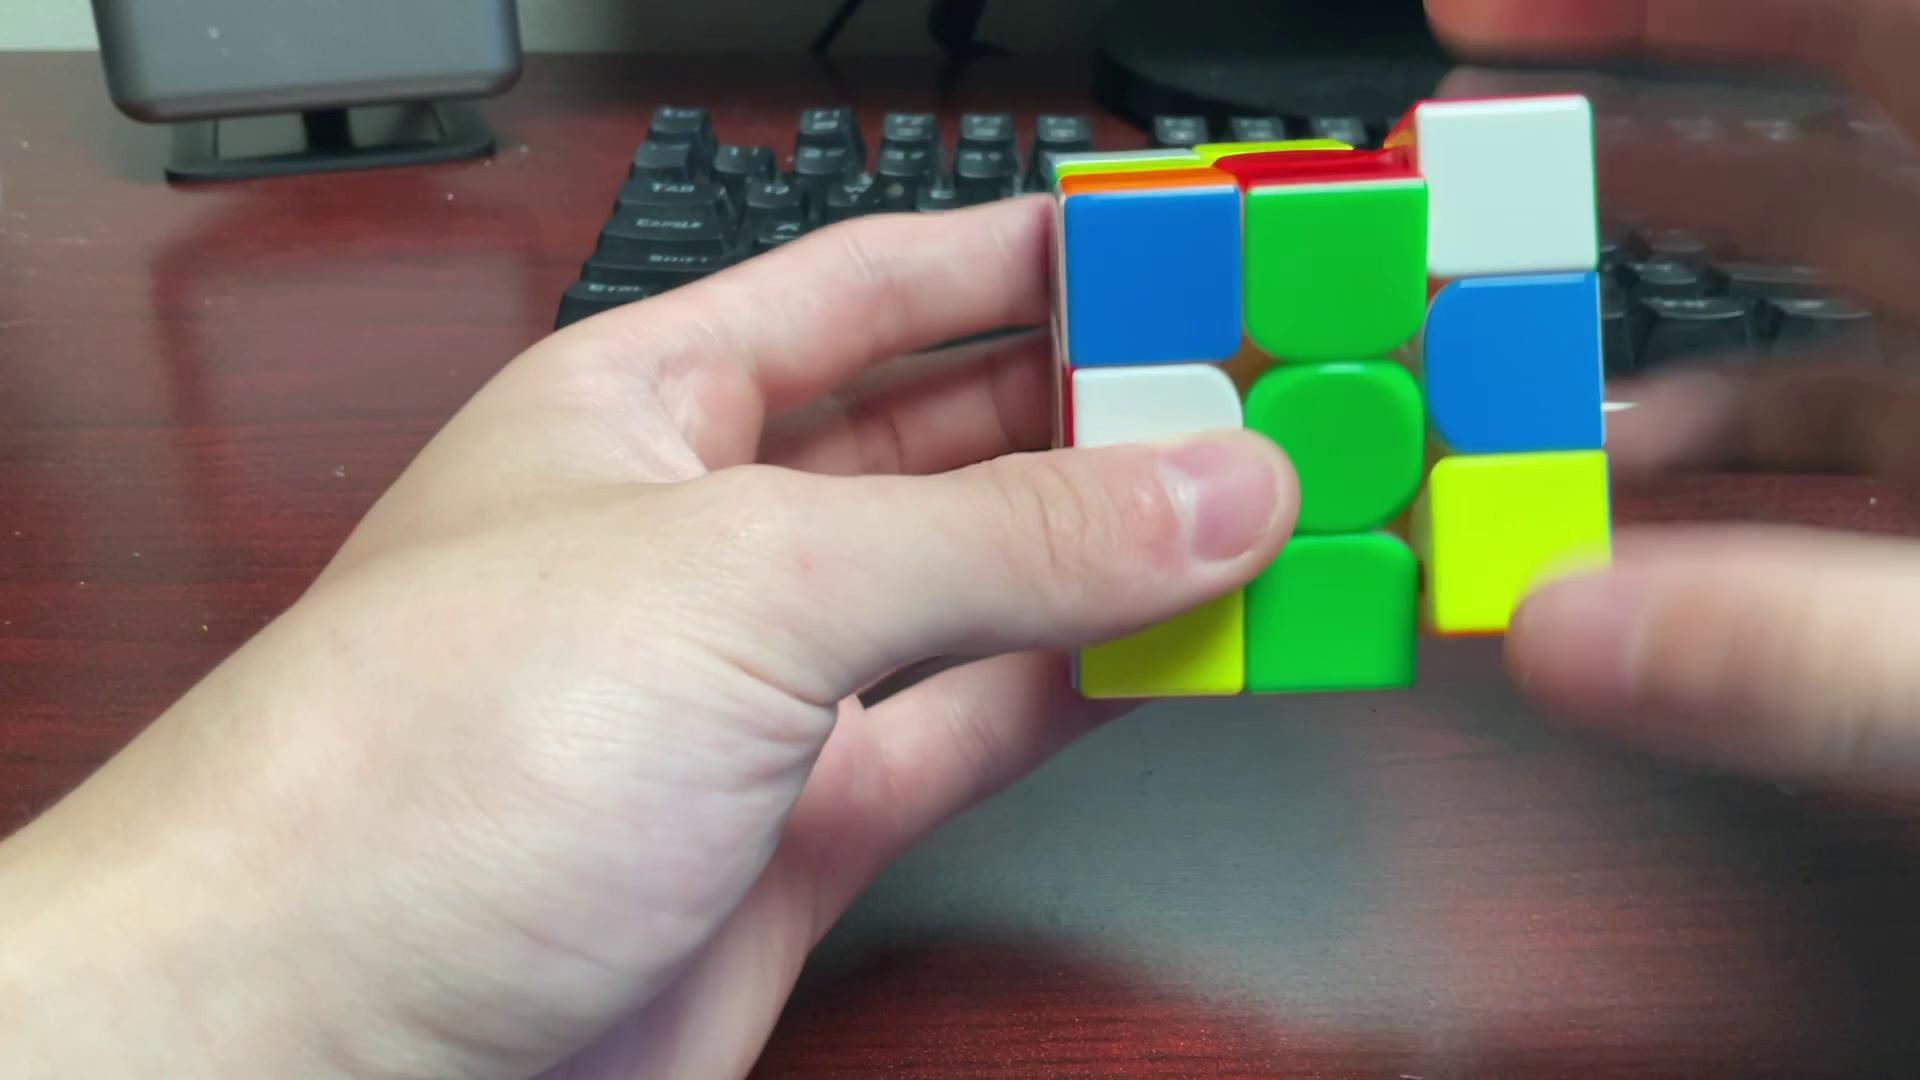Rubiks-Cube: (1038, 94, 1635, 694)
